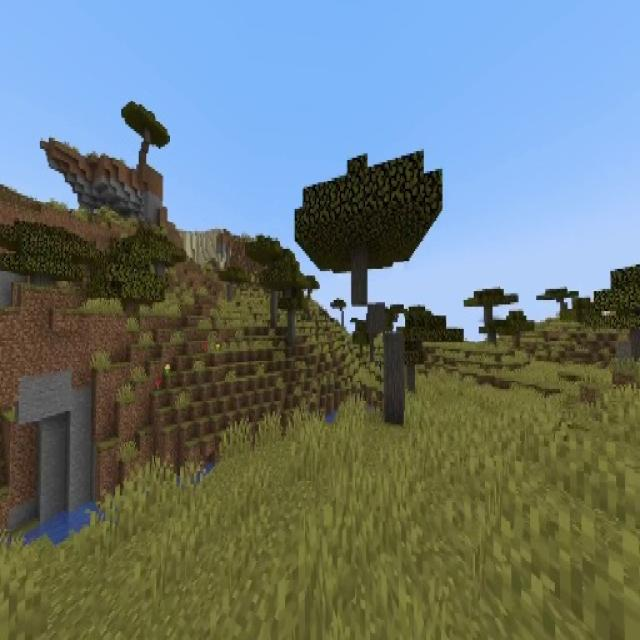acacia: (294, 150, 444, 427), (246, 233, 286, 326), (264, 256, 308, 338), (120, 99, 170, 169), (466, 284, 518, 350)
acacia_log: (382, 334, 407, 423), (351, 252, 367, 305), (368, 305, 384, 333)
oak: (95, 238, 164, 316)
